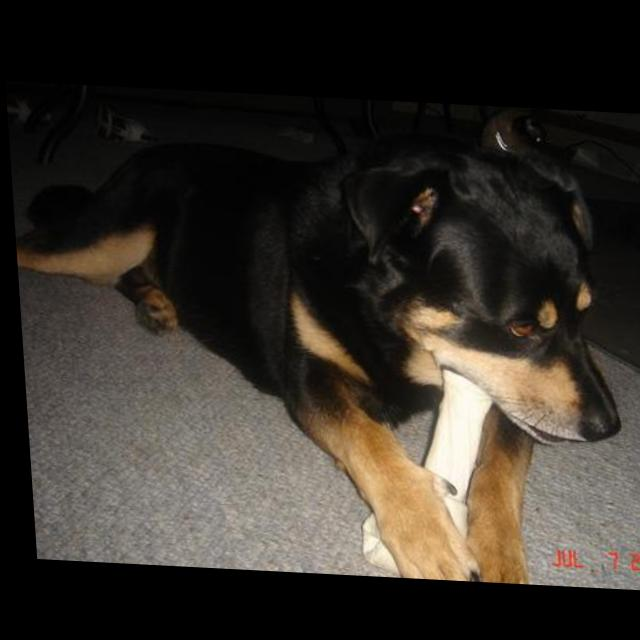rottweiler: (5, 82, 626, 584)
